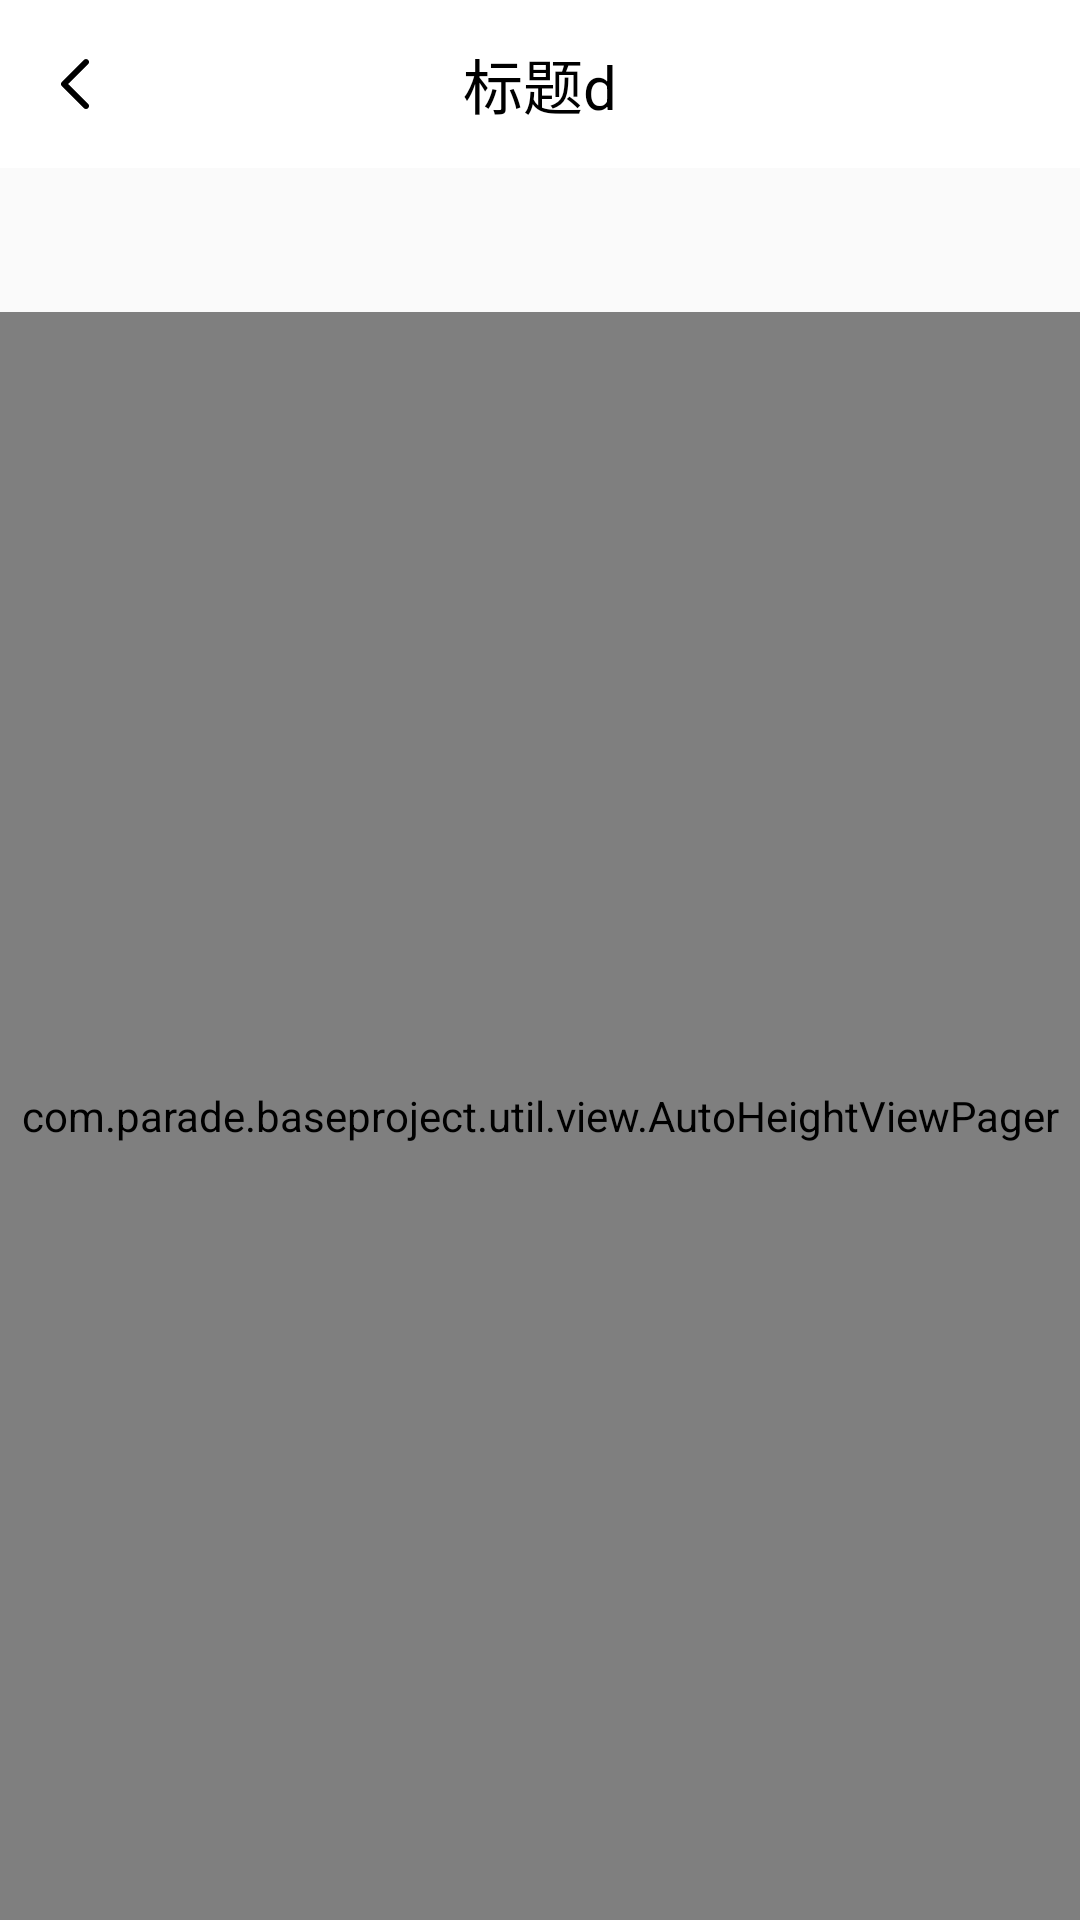

Icon bounding boxes for this 1080w x 1920h phone screenshot, format (x1, y1, x2, y2):
return: (61, 59, 89, 109)
